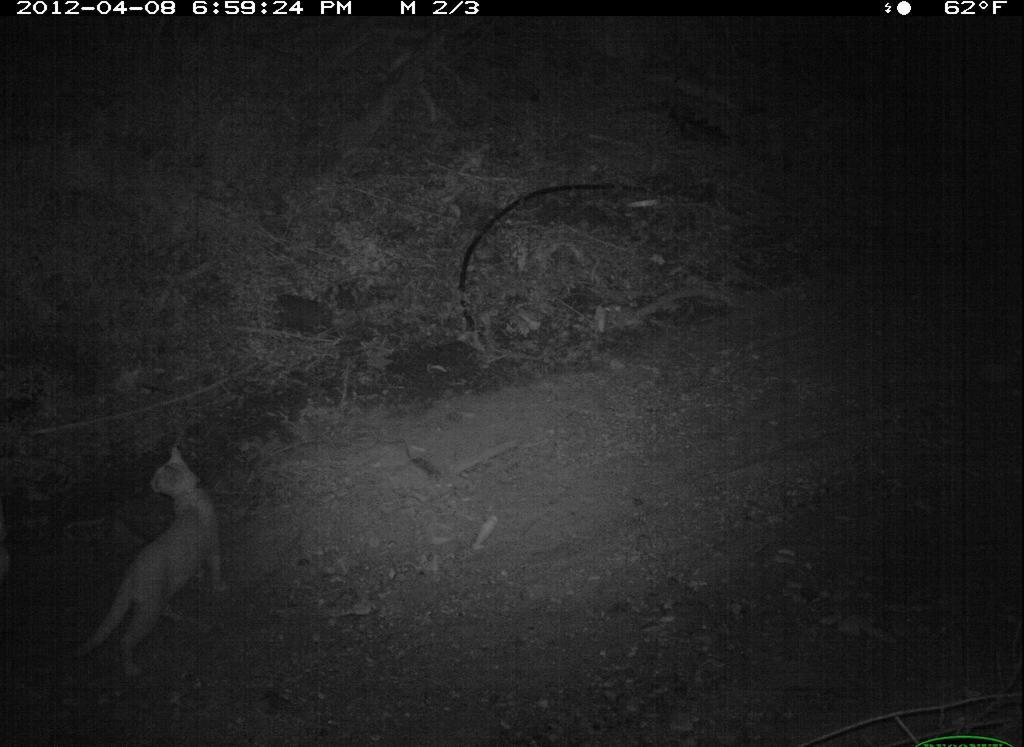cat: (59, 440, 239, 690)
